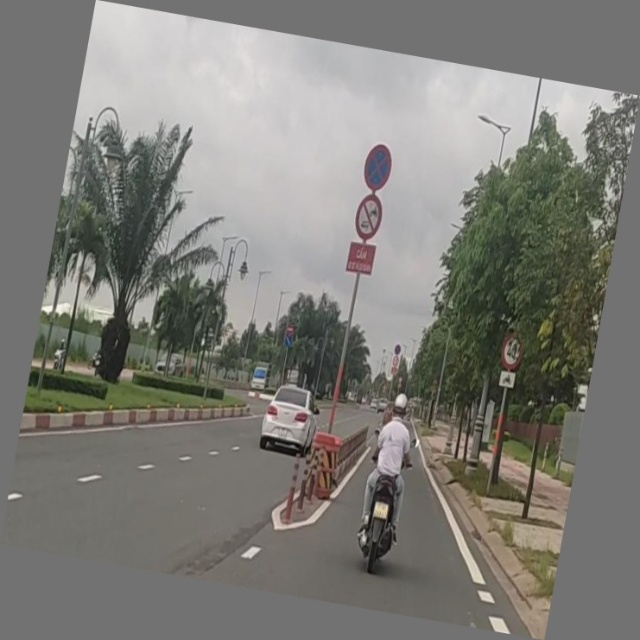P.111: (351, 189, 387, 241)
P.127*40: (496, 330, 526, 372)
P.130: (360, 139, 397, 193)
S.505a*Xe may: (494, 367, 517, 395)
